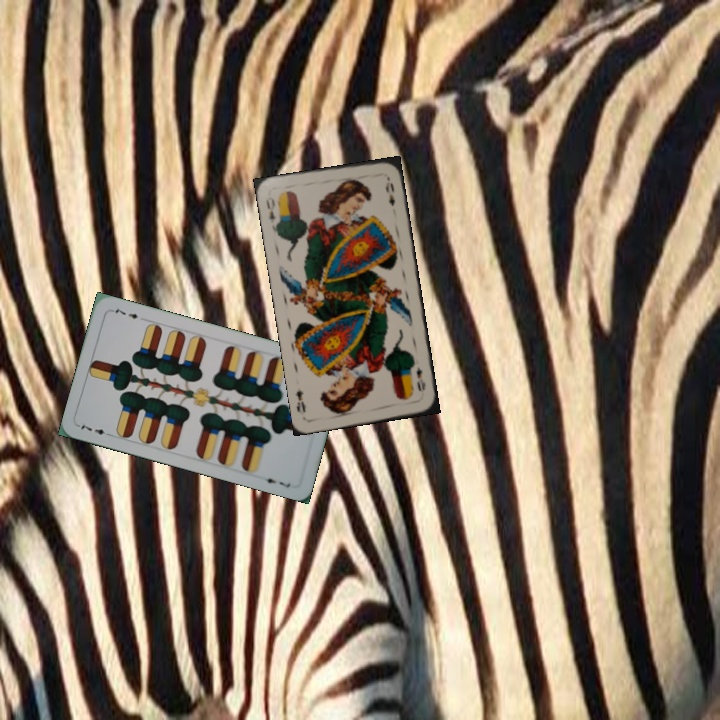E7: (75, 421, 115, 437)
EO: (262, 193, 283, 232), (412, 362, 428, 394)
